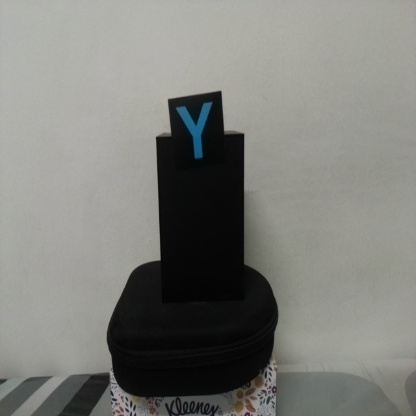id_14: (170, 98, 224, 169)
